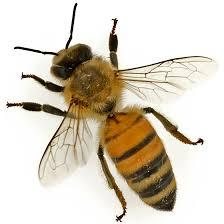Apis-mellifera-scutellata: (10, 5, 213, 223)
